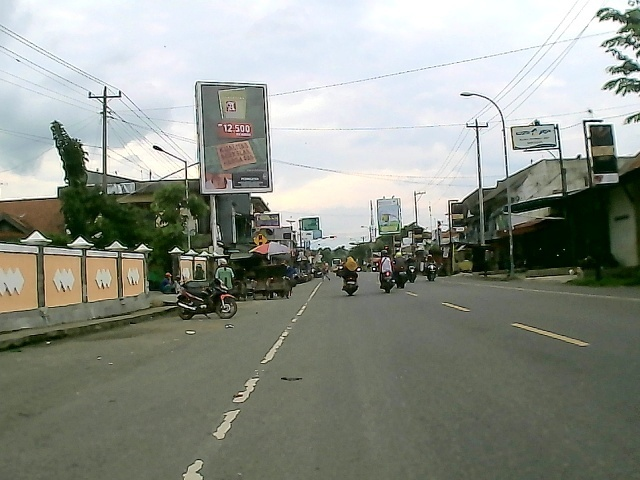Lampu isyarat: (252, 232, 269, 247)
